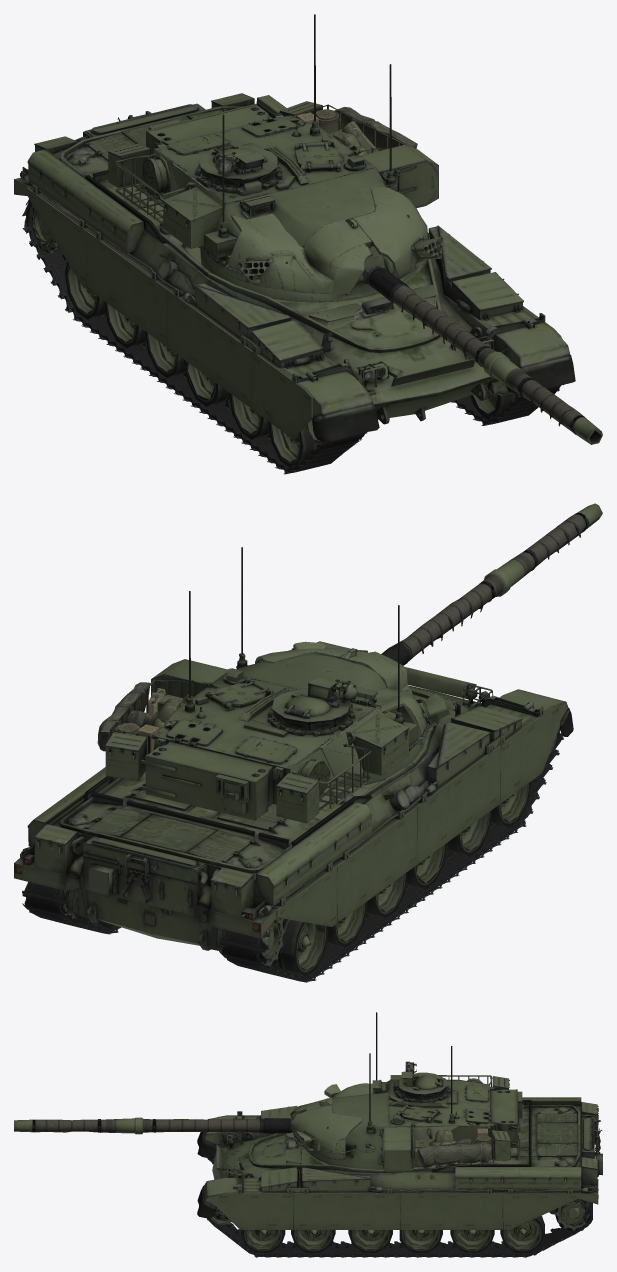
The picture shows the model from 3 angles, top to bottom: view 1: azimuth 30°, elevation 25°; view 2: azimuth 150°, elevation 25°; view 3: azimuth 270°, elevation 25°; orthographic projection. The views are drawn at different scales.
Visible parts, largest first — view 1: Object_4, Object_2, Object_3, Object_6, Object_10, Object_5, Object_12, Object_7, Object_11, Object_8, Object_9; view 2: Object_4, Object_2, Object_3, Object_10, Object_6, Object_5, Object_12, Object_7, Object_11, Object_9; view 3: Object_4, Object_2, Object_3, Object_11, Object_5, Object_6, Object_10, Object_7, Object_9.
Part boxes in pixels (left/top/right/bottom): Object_4: left=14, top=93, right=575, bottom=441; Object_2: left=107, top=101, right=438, bottom=302; Object_3: left=26, top=184, right=561, bottom=439; Object_6: left=153, top=148, right=443, bottom=330; Object_10: left=22, top=199, right=563, bottom=474; Object_5: left=359, top=246, right=602, bottom=444; Object_12: left=104, top=301, right=520, bottom=467; Object_7: left=30, top=107, right=417, bottom=294; Object_11: left=30, top=204, right=520, bottom=445; Object_8: left=201, top=159, right=533, bottom=379; Object_9: left=222, top=14, right=391, bottom=222; Object_4: left=14, top=641, right=573, bottom=953; Object_2: left=105, top=653, right=421, bottom=823; Object_3: left=276, top=648, right=560, bottom=926; Object_10: left=22, top=730, right=563, bottom=982; Object_6: left=255, top=641, right=449, bottom=788; Object_5: left=381, top=503, right=602, bottom=665; Object_12: left=326, top=781, right=531, bottom=948; Object_7: left=97, top=682, right=428, bottom=907; Object_11: left=62, top=735, right=556, bottom=976; Object_9: left=189, top=547, right=399, bottom=712; Object_4: left=197, top=1097, right=602, bottom=1218; Object_2: left=302, top=1061, right=523, bottom=1171; Object_3: left=217, top=1115, right=579, bottom=1229; Object_11: left=213, top=1158, right=589, bottom=1252; Object_5: left=14, top=1117, right=294, bottom=1134; Object_6: left=286, top=1079, right=490, bottom=1164; Object_10: left=207, top=1158, right=592, bottom=1257; Object_7: left=383, top=1128, right=581, bottom=1192; Object_9: left=369, top=1012, right=452, bottom=1121.
Bounding box in the file's own units: 154 × 167 × 460.
Materials: 9 (9 with a texture image).
